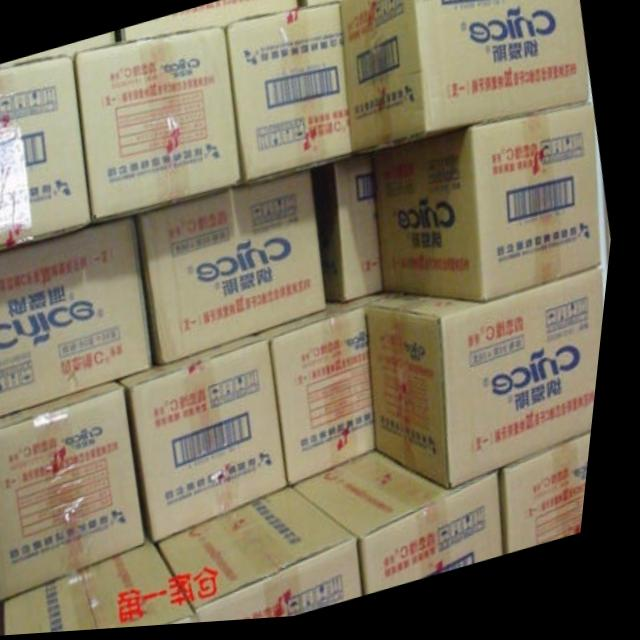box: (372, 273, 613, 497), (373, 110, 609, 310), (342, 0, 591, 157), (139, 174, 334, 368), (127, 337, 300, 545), (0, 382, 157, 604), (76, 29, 245, 225), (0, 219, 161, 419), (304, 457, 516, 601), (167, 490, 377, 626), (264, 298, 403, 491), (226, 5, 355, 190), (17, 537, 212, 636), (0, 57, 95, 252), (313, 160, 391, 307), (508, 442, 601, 562), (120, 0, 299, 45), (0, 32, 116, 66), (300, 0, 346, 11)
